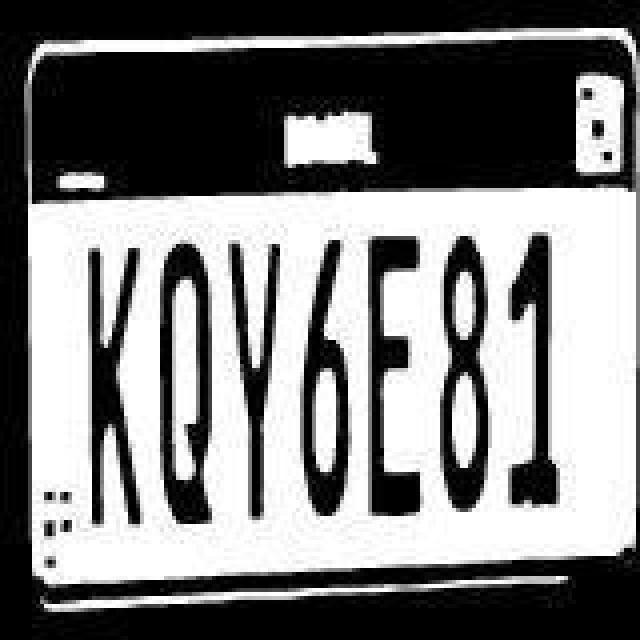1: (504, 202, 568, 518)
6: (294, 234, 362, 518)
8: (436, 214, 492, 522)
E: (364, 226, 428, 518)
K: (86, 234, 146, 534)
Q: (156, 238, 220, 530)
Y: (224, 228, 288, 524)
